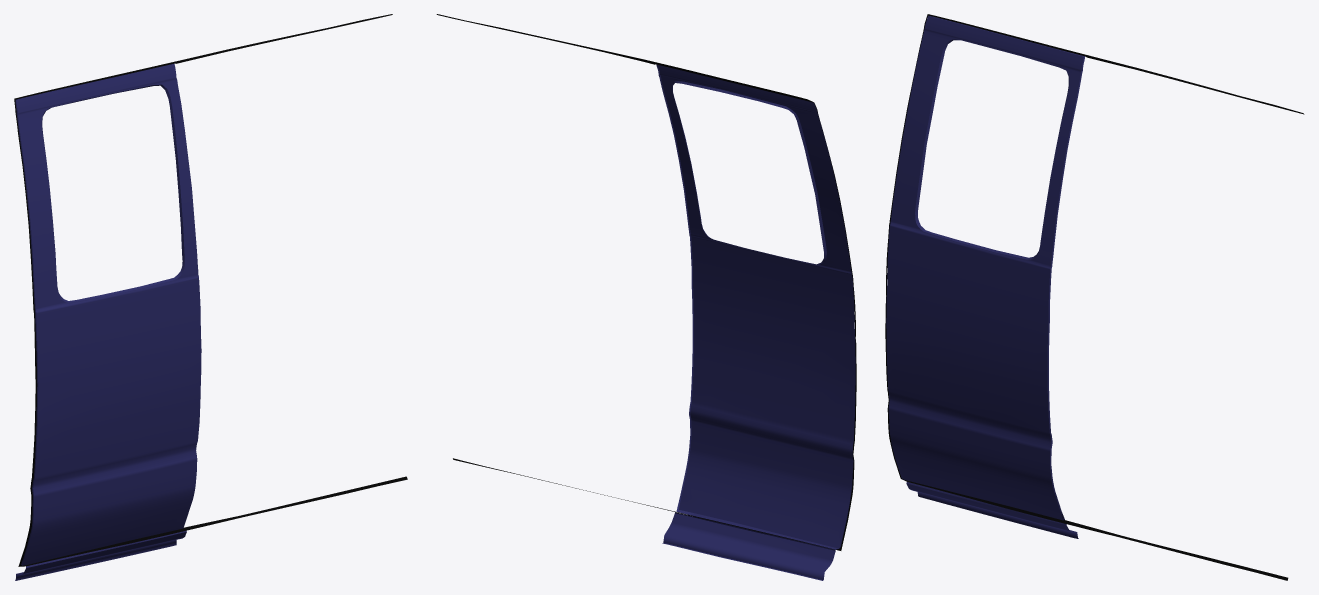
3 views of the same model, side by side, from view 1: azimuth 30°, elevation 25°; view 2: azimuth 150°, elevation 25°; view 3: azimuth 330°, elevation 25° (orthographic).
Visible parts, largest first — view 1: P615_5A_40EK_R_1_DaS_P615_5A_40EK_R, P615_5A_40EK_R_P615_5A_40EK_R_2_D, P615_5A_40EK_R_1_DaS_P615_5A_40EK_R_E; view 2: P615_5A_40EK_R_1_DaS_P615_5A_40EK_R, P615_5A_40EK_R_1_DaS_P615_5A_40EK_R_E, P615_5A_40EK_R_P615_5A_40EK_R_2_D; view 3: P615_5A_40EK_R_1_DaS_P615_5A_40EK_R, P615_5A_40EK_R_1_DaS_P615_5A_40EK_R_E, P615_5A_40EK_R_P615_5A_40EK_R_2_D.
Part boxes in pixels (<box>): P615_5A_40EK_R_1_DaS_P615_5A_40EK_R: <box>15,64,201,580</box>; P615_5A_40EK_R_P615_5A_40EK_R_2_D: <box>14,14,407,566</box>; P615_5A_40EK_R_1_DaS_P615_5A_40EK_R_E: <box>15,64,201,580</box>; P615_5A_40EK_R_1_DaS_P615_5A_40EK_R: <box>658,65,855,579</box>; P615_5A_40EK_R_1_DaS_P615_5A_40EK_R_E: <box>656,64,855,580</box>; P615_5A_40EK_R_P615_5A_40EK_R_2_D: <box>436,14,856,550</box>; P615_5A_40EK_R_1_DaS_P615_5A_40EK_R: <box>886,16,1083,538</box>; P615_5A_40EK_R_1_DaS_P615_5A_40EK_R_E: <box>886,15,1085,538</box>; P615_5A_40EK_R_P615_5A_40EK_R_2_D: <box>885,14,1304,580</box>.
Size of the model in its own units: 142 by 167 by 21.42.
